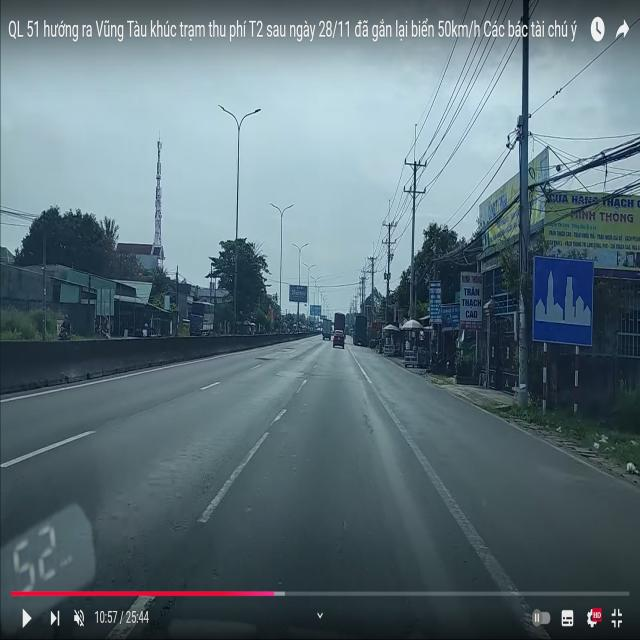Bien hieu lenh bat dau khu dong dan cu: (530, 252, 597, 352)
